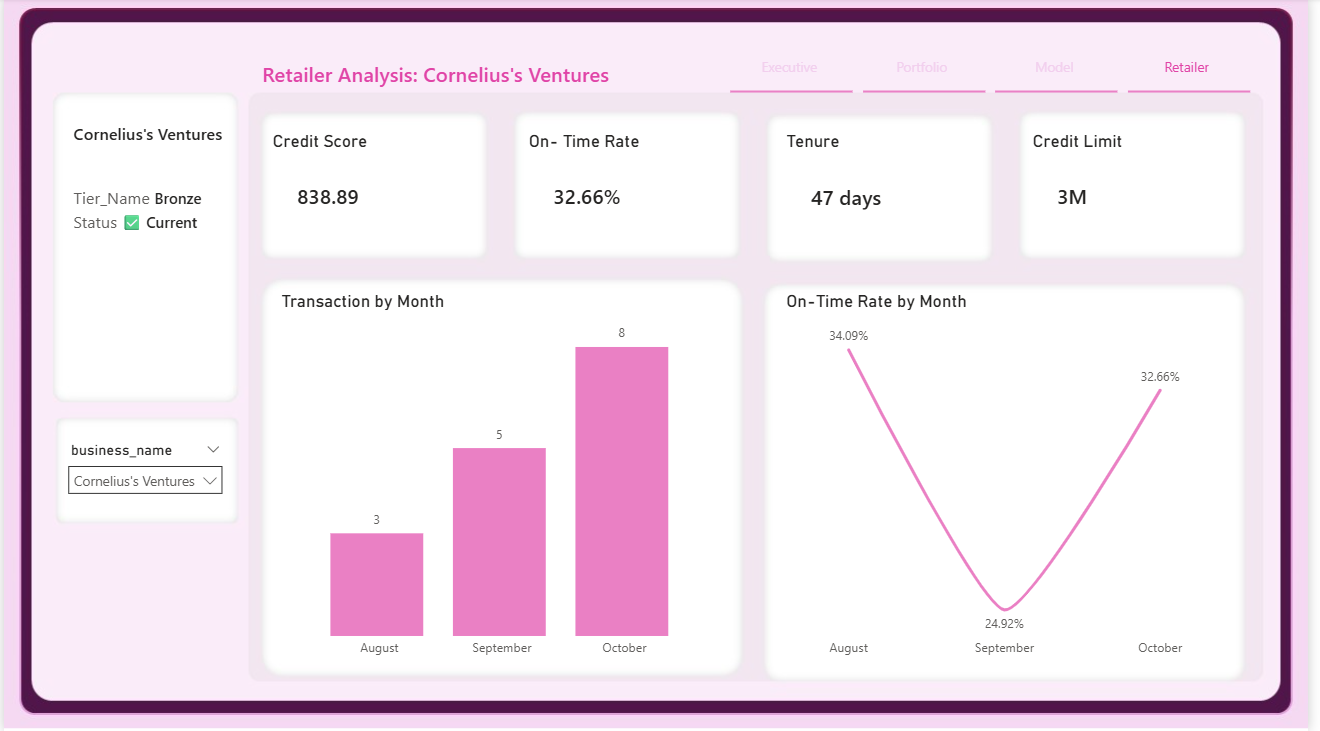

The page's visual inventory and layout, read from the dashboard file:
{"tool":"powerbi","page":{"name":"Retailer ","canvas":[1280,720],"ordinal":3},"visuals":[{"type":"cardVisual","title":"On- Time Rate","fields":{"Data":["Retailer.Selected Retailer On-Time Rate"]},"box":[510.4,130.1,191.4,105.5],"z":0},{"type":"slicer","fields":{"Values":["gold_dim_retailer.business_name"]},"box":[52.8,430.7,171.8,62.6],"z":1000},{"type":"cardVisual","title":"Tenure","fields":{"Data":["Retailer.Selected Retailer Tenure"]},"box":[763.2,130.1,195.1,108],"z":2000},{"type":"cardVisual","title":"Selected Retailer","fields":{"Data":["Retailer.Selected Retailer Name"]},"box":[39.3,73.6,219.6,198.8],"z":3000},{"type":"lineChart","title":" On-Time Rate by Month","fields":{"Y":["payment_behaviour_metrics.Avg On-Time Rate"],"Category":["Local_Date_Table.Month"]},"box":[763.2,287.1,438,369.3],"z":4000},{"type":"columnChart","title":"Transaction  by Month","fields":{"Category":["Local_Date_Table.Month"],"Y":["payment_behaviour_metrics.Avg Transaction Count"]},"box":[267.5,287.1,442.9,369.3],"z":5000},{"type":"cardVisual","title":"Credit Limit","fields":{"Data":["Retailer.Selected Retailer Credit Limit"]},"box":[1004.9,130.1,196.3,105.5],"z":6000},{"type":"cardVisual","title":"Credit Score","fields":{"Data":["Retailer.Selected Retailer Credit Score"]},"box":[258.9,130.1,201.2,105.5],"z":7000},{"type":"cardVisual","fields":{"Data":["Retailer.Retailer Analysis Title"]},"box":[224.5,40.5,652.8,66.3],"z":8000},{"type":"pageNavigator","box":[712.9,36.8,512.9,56.4],"z":9000},{"type":"textbox","box":[251.5,28.2,511.7,45.4],"z":9001}]}

Visuals, with their boxes in screenshot pixels (x1, y1, x2, y2), scaled from the page's 1280x720 canvas onto the 1320x731 screenshot:
"On- Time Rate" cardVisual: [left=526, top=132, right=724, bottom=239]
slicer - gold_dim_retailer.business_name: [left=54, top=437, right=232, bottom=501]
"Tenure" cardVisual: [left=787, top=132, right=988, bottom=242]
"Selected Retailer" cardVisual: [left=41, top=75, right=267, bottom=277]
" On-Time Rate by Month" lineChart: [left=787, top=291, right=1239, bottom=666]
"Transaction  by Month" columnChart: [left=276, top=291, right=733, bottom=666]
"Credit Limit" cardVisual: [left=1036, top=132, right=1239, bottom=239]
"Credit Score" cardVisual: [left=267, top=132, right=474, bottom=239]
cardVisual - Retailer.Retailer Analysis Title: [left=232, top=41, right=905, bottom=108]
pageNavigator: [left=735, top=37, right=1264, bottom=95]
textbox: [left=259, top=29, right=787, bottom=75]
